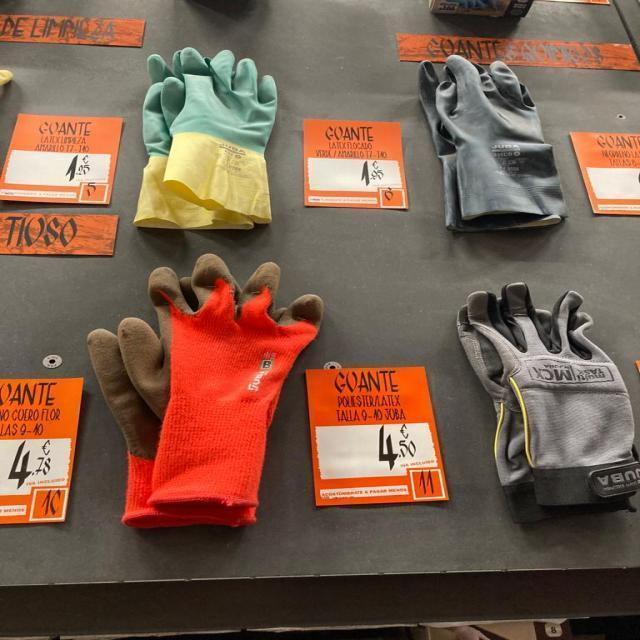gloves: (76, 253, 328, 533), (445, 273, 640, 522), (395, 53, 592, 235), (123, 37, 292, 236)
